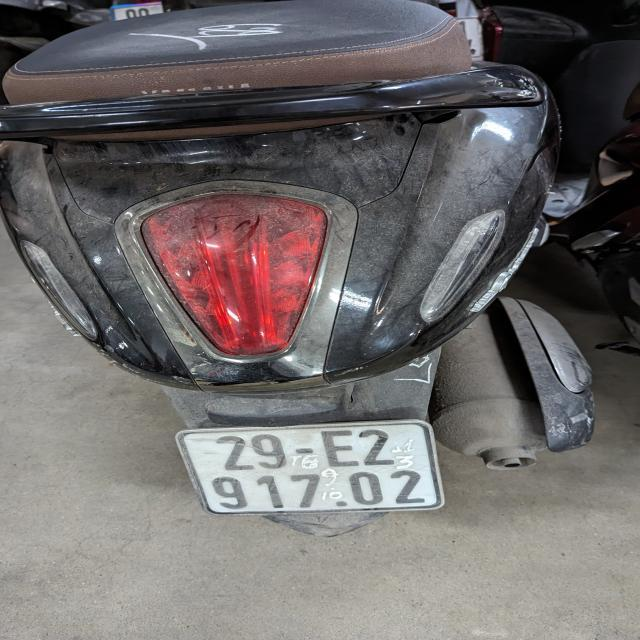license: (174, 418, 445, 515)
